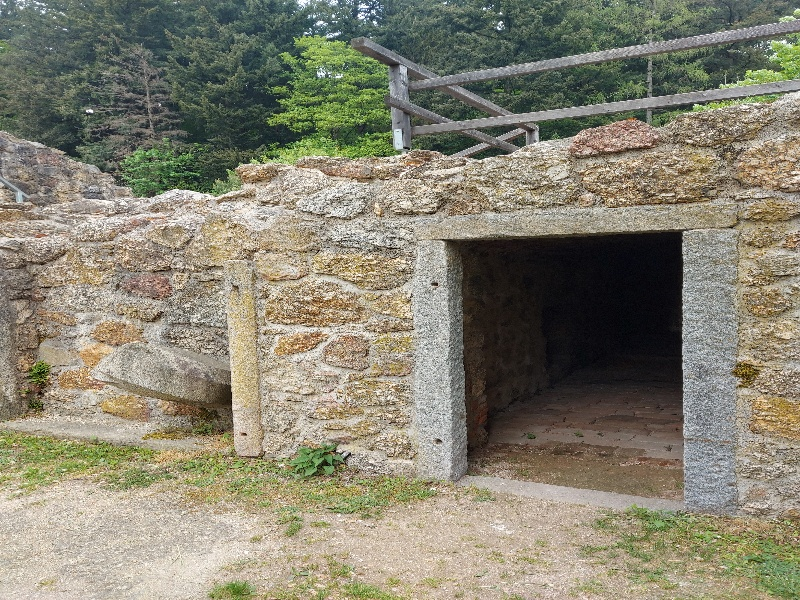door2: (407, 198, 753, 532)
